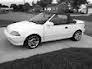car: (6, 12, 86, 49)
